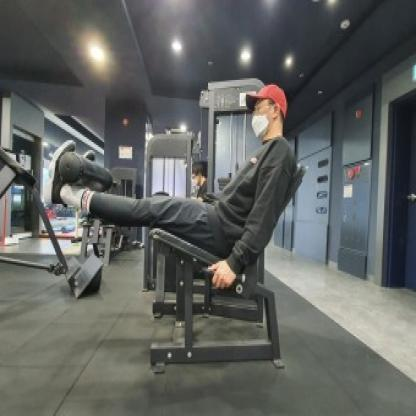leg extension: (41, 73, 309, 381)
